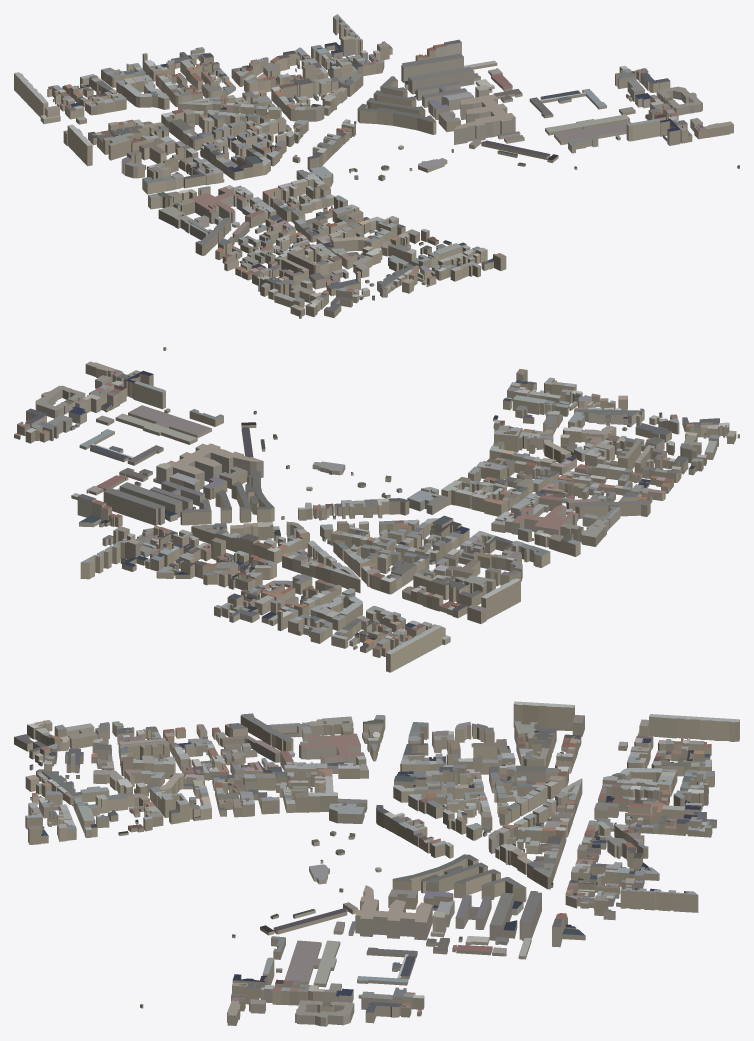
The picture shows the model from 3 angles, top to bottom: view 1: azimuth 30°, elevation 25°; view 2: azimuth 150°, elevation 25°; view 3: azimuth 270°, elevation 25°; orthographic projection. The views are drawn at different scales.
Visible parts, largest first — view 1: tuile; view 2: tuile; view 3: tuile.
Part boxes in pixels (left/top/right/bottom): tuile: left=14, top=14, right=739, bottom=318; tuile: left=14, top=347, right=739, bottom=672; tuile: left=14, top=701, right=739, bottom=1026.
Bounding box in the file's own units: 1047 × 50.22 × 1069.
